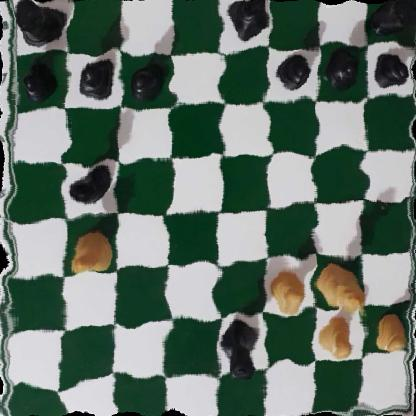black-bishop: (68, 163, 115, 210)
black-king: (228, 0, 271, 43)
black-pawn: (76, 53, 117, 100), (19, 56, 54, 100), (372, 50, 411, 89), (275, 53, 315, 91), (127, 60, 165, 99), (327, 48, 359, 89)
black-queen: (221, 317, 256, 387)
black-rook: (12, 0, 65, 47), (371, 0, 416, 38)
white-bishop: (69, 229, 116, 278)
white-king: (321, 260, 371, 323)
white-pawn: (269, 268, 311, 312), (320, 312, 356, 359), (370, 309, 405, 354)
